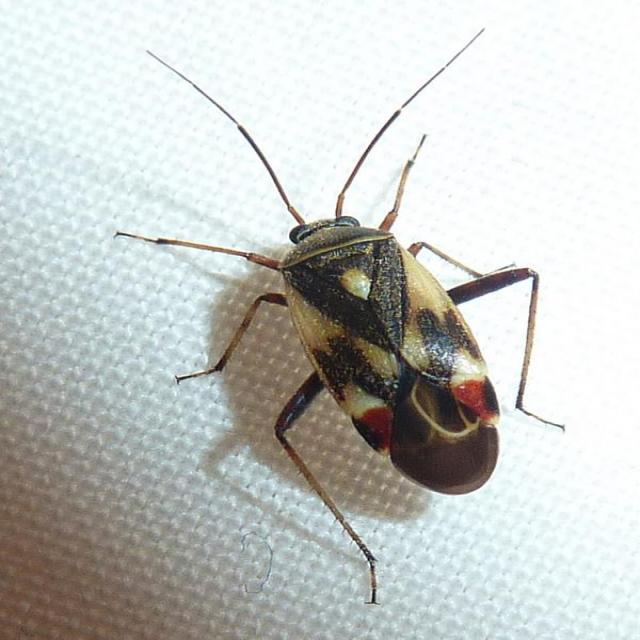Miridae-Adult-: (90, 24, 583, 502)
